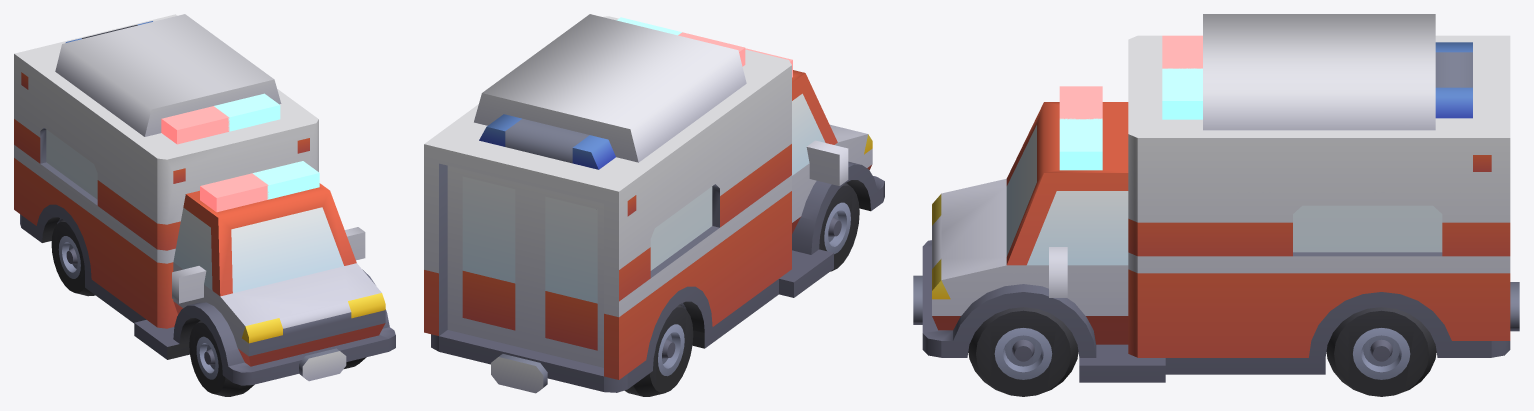
Rendered from ambulance.glb.
3 views of the same model, side by side, from view 1: azimuth 30°, elevation 25°; view 2: azimuth 150°, elevation 25°; view 3: azimuth 270°, elevation 25° (orthographic). The views are drawn at different scales.
Parts seen in each view (by area): view 1: body, wheel-front-right, SirenCabLeft, wheel-back-right, SirenBoxLeft, SirenCabRight, SirenBoxRight; view 2: body, door-left, door-right, wheel-back-right, wheel-front-right, SirenBoxLeft; view 3: body, wheel-back-left, wheel-front-left, SirenCabRight, SirenBoxRight, SirenCabLeft, SirenBoxLeft.
Part boxes in pixels (x1,y1,x2,y2): body: (14,14,395,385); wheel-front-right: (189,320,254,396); SirenCabLeft: (200,173,268,212); wheel-back-right: (51,219,95,296); SirenBoxLeft: (161,106,229,144); SirenCabRight: (252,161,319,199); SirenBoxRight: (214,93,280,131); body: (424,14,884,393); door-left: (447,165,530,349); door-right: (530,186,603,367); wheel-back-right: (624,304,693,396); wheel-front-right: (819,183,859,271); SirenBoxLeft: (678,32,745,66); body: (913,14,1519,382); wheel-back-left: (1326,307,1436,396); wheel-front-left: (968,307,1078,396); SirenCabRight: (1059,118,1102,170); SirenBoxRight: (1162,68,1202,119); SirenCabLeft: (1059,86,1102,119); SirenBoxLeft: (1162,35,1202,68).
Size of the model in its own units: 1.5 by 1.8 by 3.25.
Materials: 3 (1 with a texture image).
